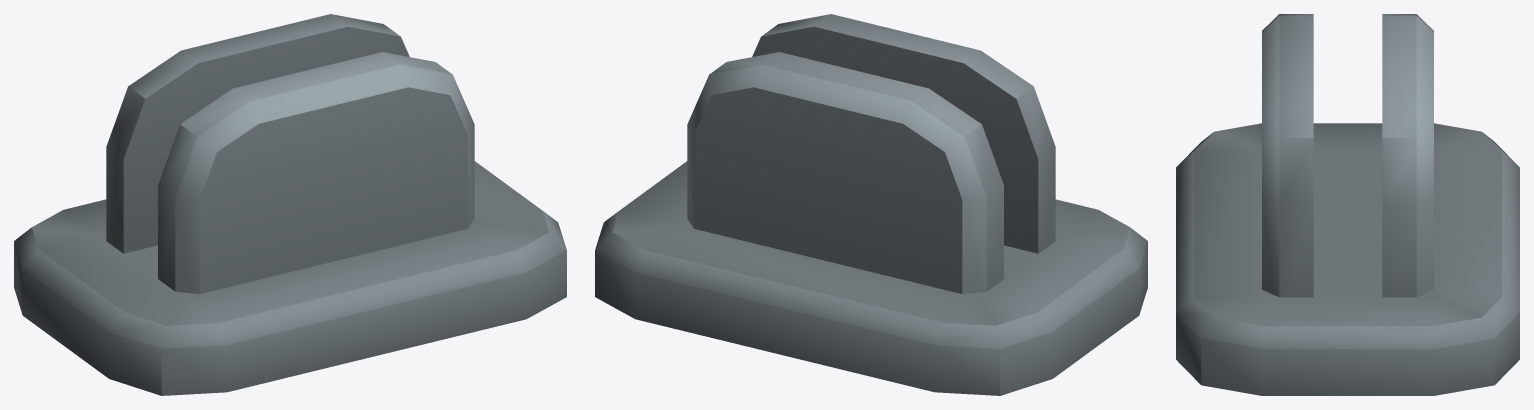
The model's file is playerstand.glb.
3 views of the same model, side by side, from view 1: azimuth 30°, elevation 25°; view 2: azimuth 150°, elevation 25°; view 3: azimuth 270°, elevation 25° (orthographic).
Visible parts, largest first — view 1: playerstand; view 2: playerstand; view 3: playerstand.
Part boxes in pixels (box(x1,y1,x2,y2)): playerstand: box(14, 14, 566, 395); playerstand: box(595, 14, 1147, 395); playerstand: box(1176, 14, 1519, 395).
Bounding box in the file's own units: 0.75 × 0.375 × 0.5.
1 material, 1 textured.
